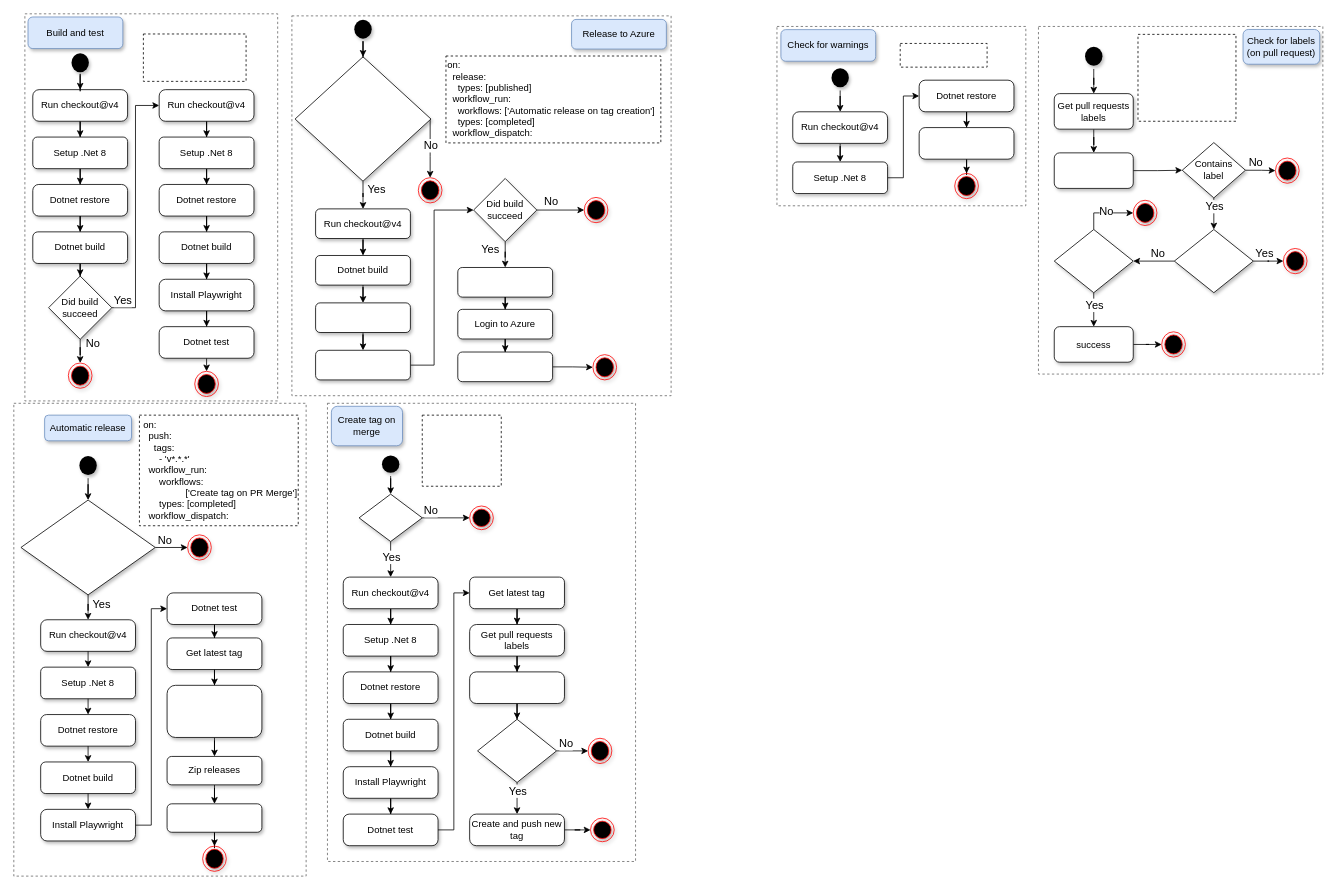
This 1338x891 diagram has some shape labels left out. Here are the shapes that lost their labels. From the top down, the centre of each, then its label:
At [194,57]: "on: pull_request: branches: [ main ]".
At [943,55]: "on: [pull_request]".
At [1186,77]: "on: pull_request_target: types: - opened - labeled - unlabeled - synchronize".
At [363,120]: "Not triggered by a workflow run Or Triggered by a sucsseful workflow run".
At [967,144]: "Build with warnings as error".
At [1094,171]: "Calculate amount of labels".
At [1094,262]: "Label combination is allowed".
At [1214,262]: "Contains not allowed label".
At [505,283]: "Download artifact".
At [363,318]: "Dotnet publish".
At [363,365]: "Upload artifact".
At [505,367]: "Deploy web app".
At [461,450]: "on: pull_request: types: [closed] branches: - main".
At [391,518]: "Merged".
At [88,548]: "Is not workflow run Or is a sucsseful workflow run".
At [517,688]: "Calculate new version based on labels".
At [215,712]: "Create relese for -Linux -Windows -Mac".
At [517,751]: "New version created".
At [215,819]: "Create github relese form tag and zips".
